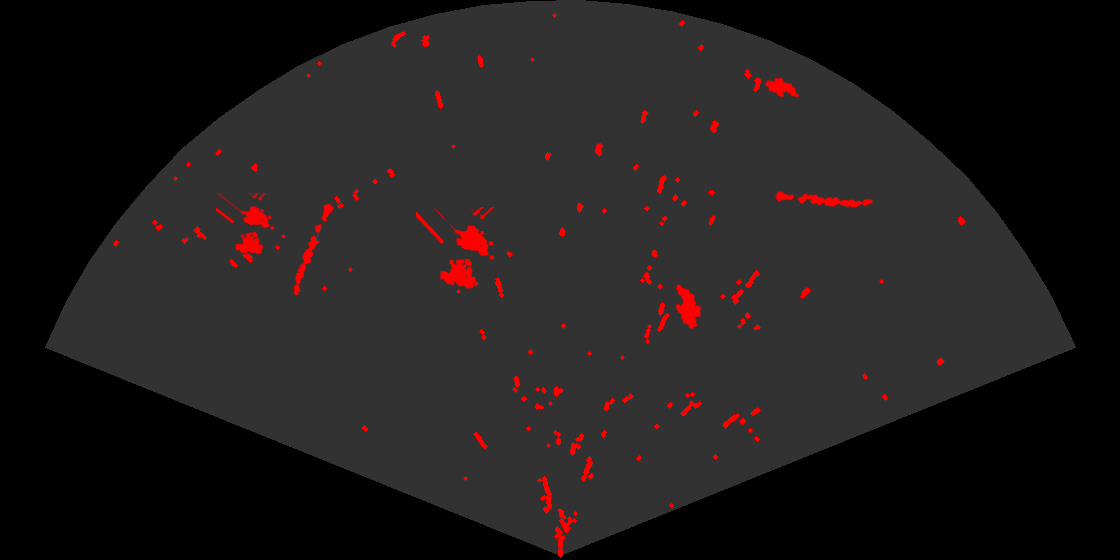AUV: (674, 282, 703, 330), (763, 76, 800, 99)
cage: (416, 207, 496, 290), (216, 193, 276, 256)
chain: (292, 201, 335, 297), (773, 190, 874, 209)
